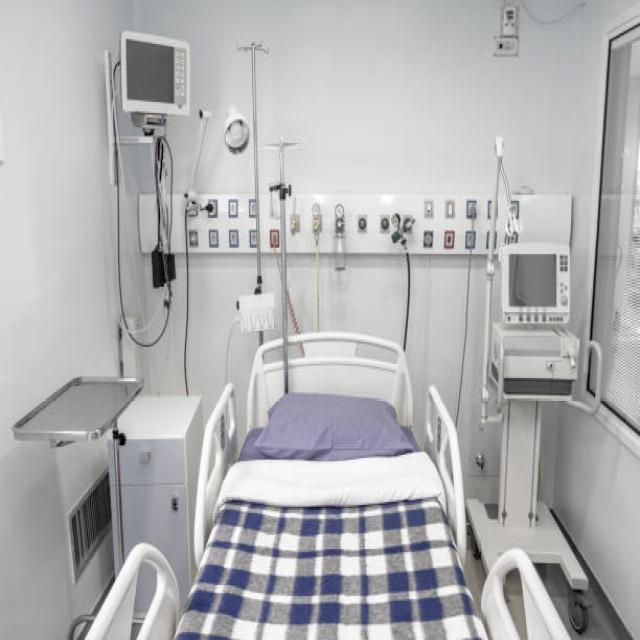Monitor: (482, 210, 600, 626), (109, 6, 197, 212)
bed: (87, 304, 571, 640)
tools_table: (13, 363, 142, 640)
